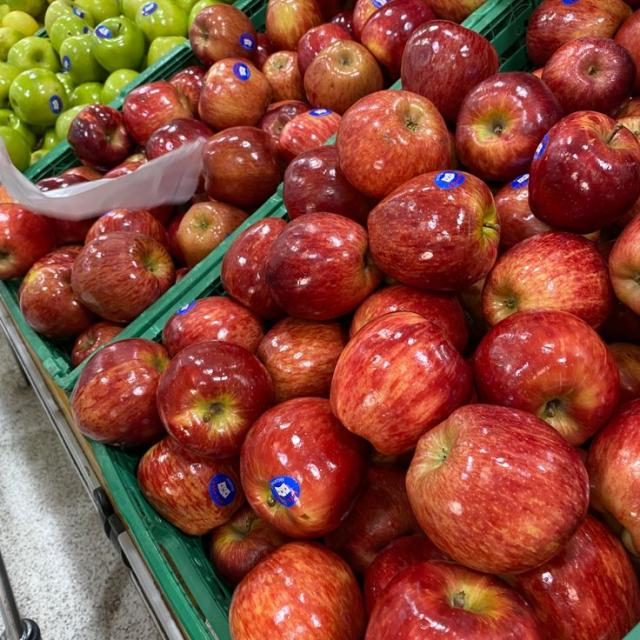apple: (407, 405, 588, 573), (330, 312, 472, 454), (474, 310, 619, 445), (240, 398, 368, 538), (507, 515, 639, 639), (368, 171, 499, 290), (366, 560, 540, 639), (158, 340, 273, 458), (529, 112, 639, 233), (230, 542, 366, 639), (336, 90, 451, 199), (483, 231, 613, 327), (267, 213, 381, 319), (456, 72, 564, 181), (71, 339, 169, 446), (401, 20, 499, 126), (137, 438, 243, 535), (325, 467, 420, 574), (72, 232, 174, 322), (587, 400, 639, 556), (350, 285, 468, 353), (256, 317, 347, 402), (542, 37, 636, 116), (283, 146, 373, 226), (20, 246, 95, 338), (527, 0, 631, 66), (363, 535, 447, 615), (221, 218, 286, 319), (209, 505, 289, 586), (203, 127, 279, 210), (162, 296, 264, 357), (360, 0, 435, 78), (305, 40, 383, 114), (199, 59, 272, 130), (177, 201, 246, 267), (494, 174, 551, 253), (123, 81, 193, 145), (67, 105, 134, 171), (0, 203, 54, 279), (189, 5, 256, 66), (279, 108, 341, 163), (9, 69, 67, 126), (91, 17, 146, 73), (85, 209, 167, 246), (609, 217, 639, 313), (298, 24, 353, 76), (266, 0, 323, 50), (145, 119, 213, 159), (60, 34, 107, 84), (257, 101, 311, 144), (72, 321, 122, 366), (135, 0, 187, 43), (262, 51, 305, 100), (615, 12, 639, 94), (7, 37, 59, 73), (609, 343, 639, 404), (169, 66, 207, 113), (599, 299, 639, 343), (44, 0, 96, 33), (49, 14, 91, 51), (352, 0, 389, 40), (0, 108, 36, 149), (0, 126, 31, 171), (100, 69, 139, 104), (54, 100, 88, 140), (429, 0, 485, 22), (147, 36, 188, 66), (188, 0, 231, 28), (73, 0, 119, 24), (1, 10, 39, 36), (167, 214, 185, 266), (253, 32, 277, 70), (68, 82, 103, 107), (0, 62, 19, 108), (36, 175, 87, 192), (0, 27, 23, 61), (104, 160, 144, 179), (4, 0, 46, 17), (329, 11, 354, 37), (60, 165, 102, 180), (120, 0, 146, 20), (317, 0, 342, 20), (56, 72, 76, 95), (41, 127, 61, 150), (30, 148, 49, 166), (176, 267, 190, 282), (0, 4, 9, 23), (532, 67, 543, 79)
